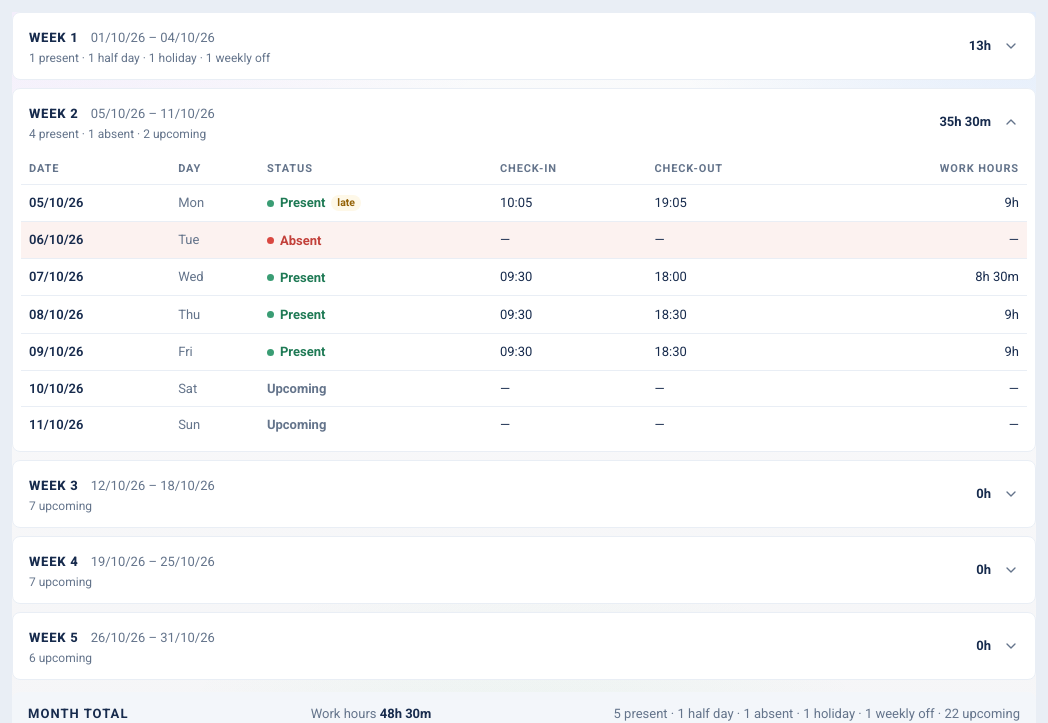
Test: AttendanceWeeklyReport › expands and collapses a week; the day table has exactly the six columns, in order
Click the button "Week 1": [50, 38] box [13,13,1035,79]
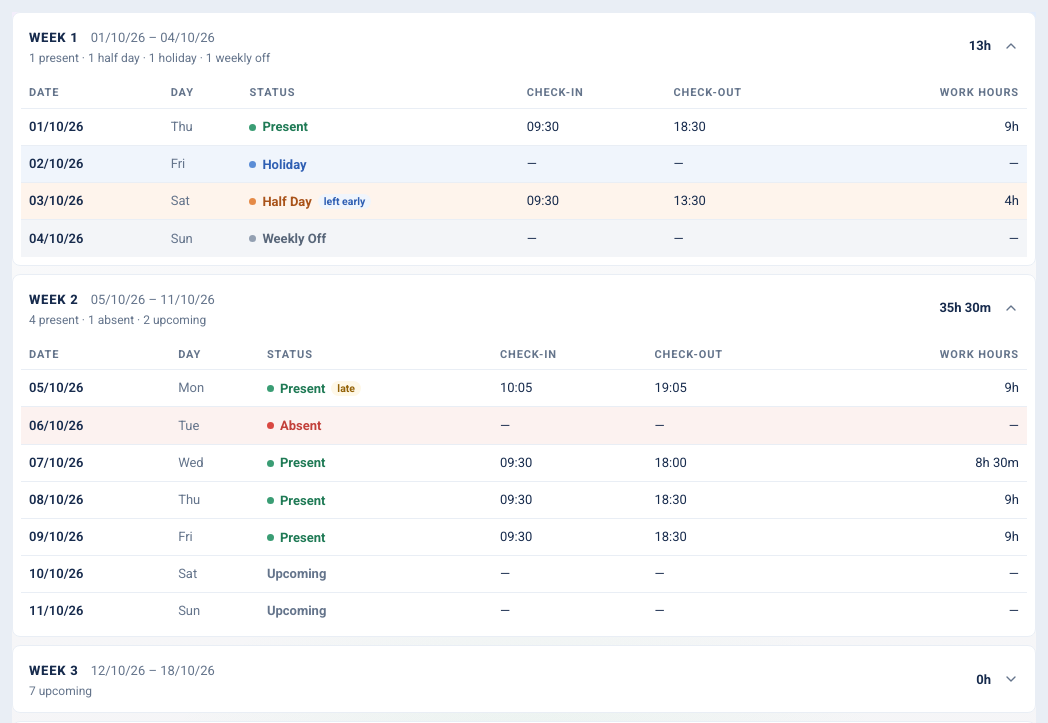
Check: the button "Week 1" is expanded
Click the button "Week 1": [50, 38] box [13,13,1035,79]
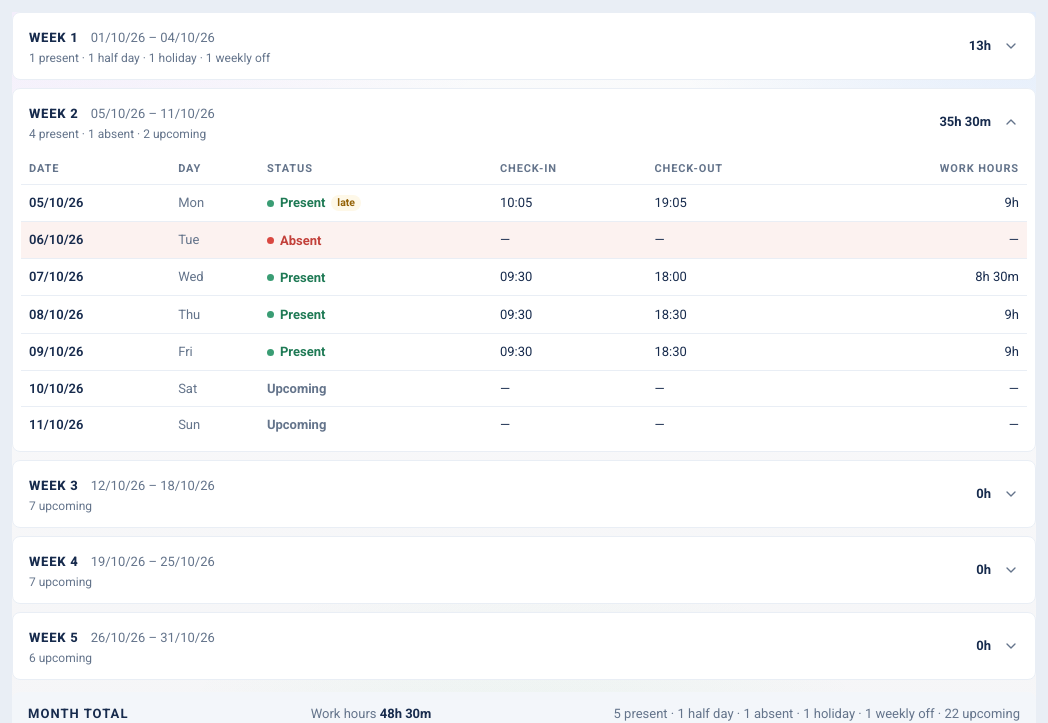
Check: the button "Week 1" is collapsed, box [13,13,1035,79]
Check: the element with id "attendance-week-1" is gone
